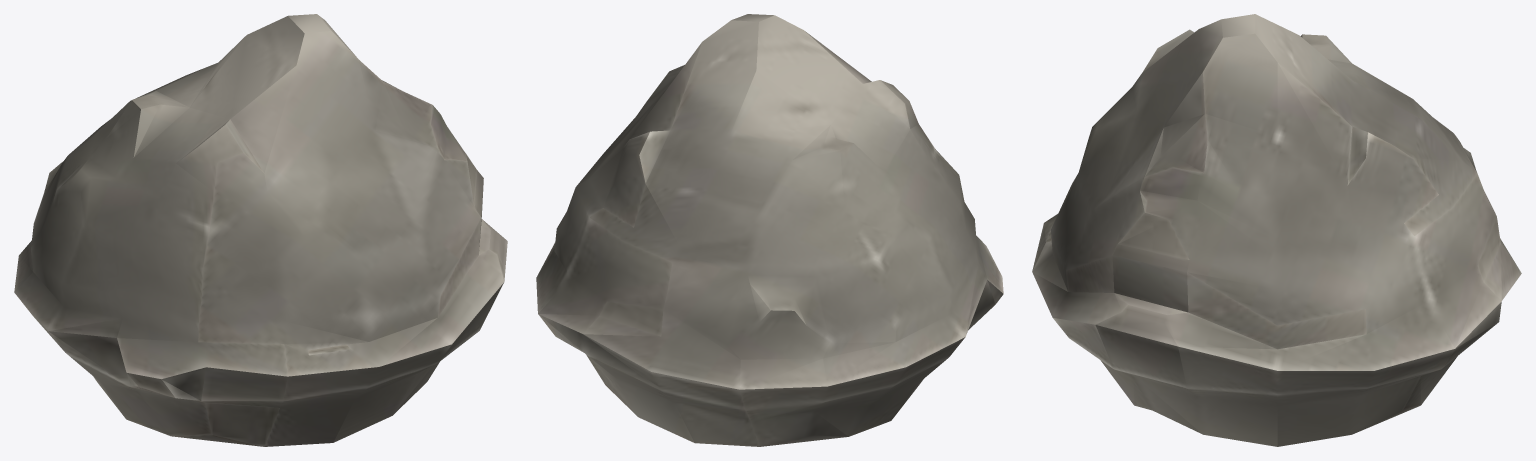
Rendered from r32_erzpack_object_9.glb.
The picture shows the model from 3 angles, left to right: view 1: azimuth 30°, elevation 25°; view 2: azimuth 150°, elevation 25°; view 3: azimuth 270°, elevation 25°; orthographic projection. The views are drawn at different scales.
Parts seen in each view (by area): view 1: erz_9; view 2: erz_9; view 3: erz_9.
Part boxes in pixels (x1=…): erz_9: x1=14, y1=14, x2=507, y2=446; erz_9: x1=536, y1=14, x2=1003, y2=446; erz_9: x1=1032, y1=14, x2=1521, y2=446.
Size of the model in its own units: 1 by 0.8608 by 0.9904.
Materials: 1 (1 with a texture image).
